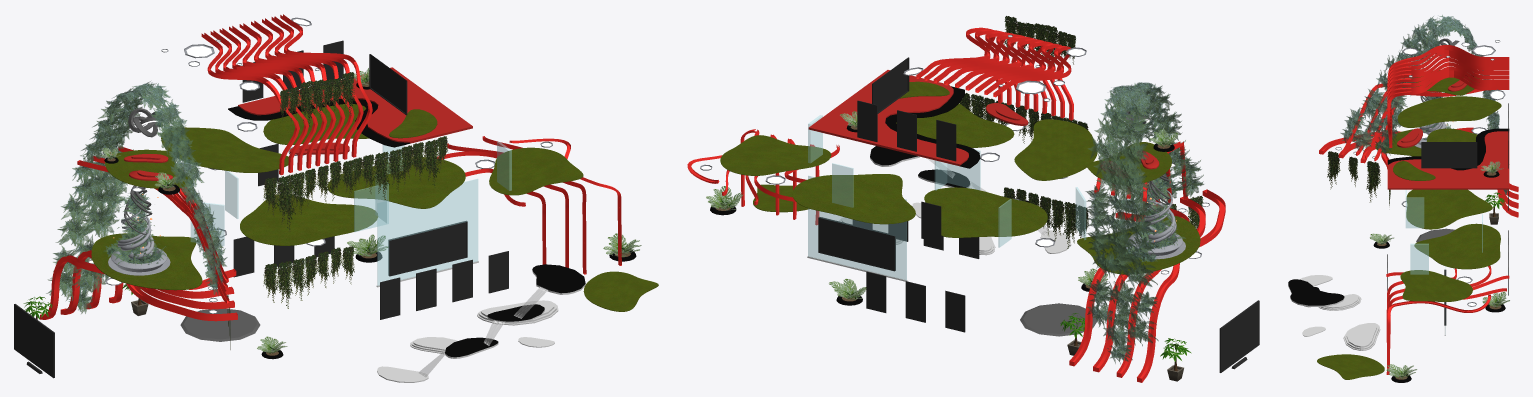
File: ubs_int_main_geo.gltf
3 renders of one model, left to right at view 1: azimuth 30°, elevation 25°; view 2: azimuth 150°, elevation 25°; view 3: azimuth 270°, elevation 25°, orthographic. The views are drawn at different scales.
Parts seen in each view (by area): view 1: BezierCurve.005, Plane.045, Partition_wall_groundfloor, Circle.028, BezierCurve.003, Circle.027, Circle.005, Model_9x16_vert.001, Circle.014, Circle.029, Model_9x16_horizontal.004, BezierCurve.001 (+26 smaller); view 2: BezierCurve.005, Plane.045, Circle.027, Circle.028, BezierCurve.003, Circle.005, Circle.029, Model_9x16_horizontal.004, Model_9x16_vert, Partition_wall_groundfloor, Model_9x16_vert.002, Circle.004 (+35 smaller); view 3: BezierCurve.005, Plane.045, Circle.027, Circle.028, Circle.005, Circle.029, Model_9x16_horizontal.005, BezierCurve.001, Circle.025, BezierCurve.003, BezierCurve.002, Circle.023 (+25 smaller).
Part boxes in pixels (bbox=[...]): BezierCurve.005: bbox=[201, 14, 372, 175]; Plane.045: bbox=[228, 67, 472, 147]; Partition_wall_groundfloor: bbox=[377, 178, 478, 285]; Circle.028: bbox=[240, 194, 377, 245]; BezierCurve.003: bbox=[40, 250, 237, 321]; Circle.027: bbox=[327, 157, 465, 208]; Circle.005: bbox=[161, 127, 288, 172]; Model_9x16_vert.001: bbox=[380, 251, 508, 319]; Circle.014: bbox=[91, 233, 202, 290]; Circle.029: bbox=[489, 147, 583, 195]; Model_9x16_horizontal.004: bbox=[388, 221, 467, 276]; BezierCurve.001: bbox=[437, 136, 621, 274]; BezierCurve.005: bbox=[916, 27, 1073, 120]; Plane.045: bbox=[808, 70, 980, 168]; Circle.027: bbox=[792, 174, 915, 224]; Circle.028: bbox=[924, 187, 1047, 237]; BezierCurve.003: bbox=[1069, 189, 1225, 382]; Circle.005: bbox=[1014, 119, 1097, 180]; Circle.029: bbox=[720, 135, 831, 175]; Model_9x16_horizontal.004: bbox=[818, 217, 895, 271]; Model_9x16_vert: bbox=[866, 271, 965, 332]; Partition_wall_groundfloor: bbox=[808, 175, 906, 280]; Model_9x16_vert.002: bbox=[857, 100, 956, 161]; Circle.004: bbox=[896, 103, 1014, 147]; BezierCurve.005: bbox=[1387, 45, 1509, 147]; Plane.045: bbox=[1387, 128, 1509, 189]; Circle.027: bbox=[1414, 223, 1500, 269]; Circle.028: bbox=[1406, 189, 1492, 229]; Circle.005: bbox=[1397, 96, 1501, 127]; Circle.029: bbox=[1400, 270, 1472, 302]; Model_9x16_horizontal.005: bbox=[1421, 142, 1477, 168]; BezierCurve.001: bbox=[1386, 265, 1509, 374]; Circle.025: bbox=[1317, 354, 1384, 379]; BezierCurve.003: bbox=[1319, 127, 1518, 217]; BezierCurve.002: bbox=[1342, 73, 1484, 161]; Circle.023: bbox=[1343, 323, 1380, 350].
Size of the model in its own units: 73.13 by 32.71 by 33.59.
Materials: 18 (8 with a texture image).
